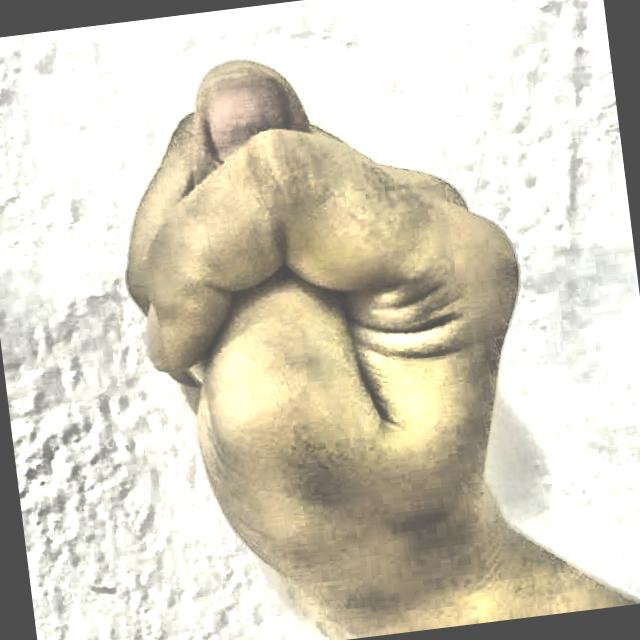Ta: (53, 0, 595, 640)
